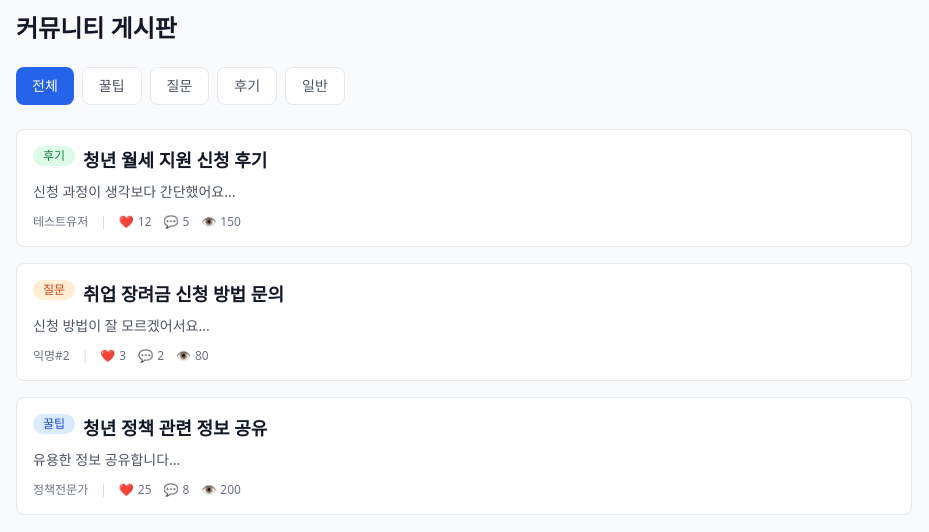
Test: CommunityPage › 빈 목록일 때 메시지를 표시한다
Expected: the heading "청년 월세 지원 신청 후기" is shown, [83,148,267,172]
Note: Filter to type that has no posts
Click the button "일반": [315, 86] box [285,67,345,105]
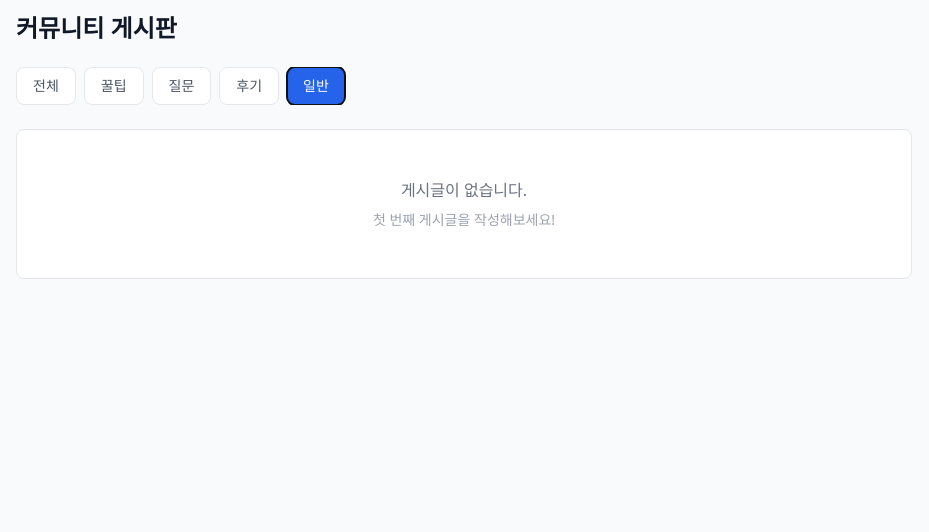
Now the text "게시글이 없습니다." is shown, box [401,179,527,201]
